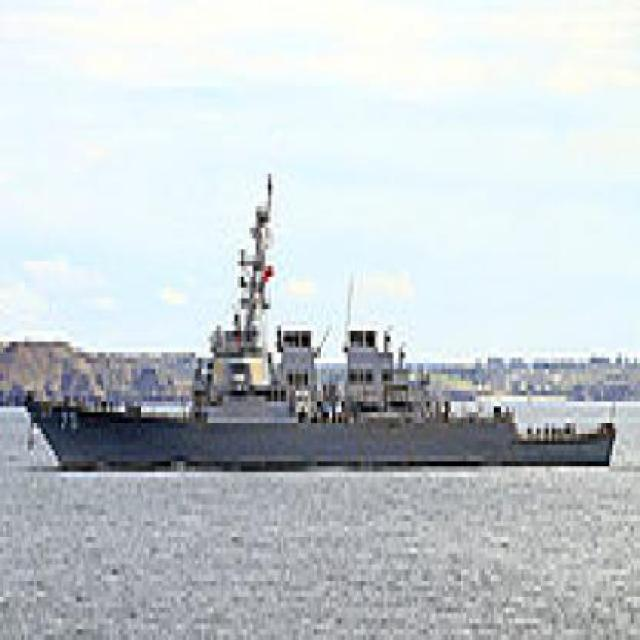warship2: (17, 159, 617, 490)
